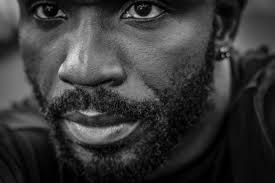no-mask: (5, 1, 262, 177)
